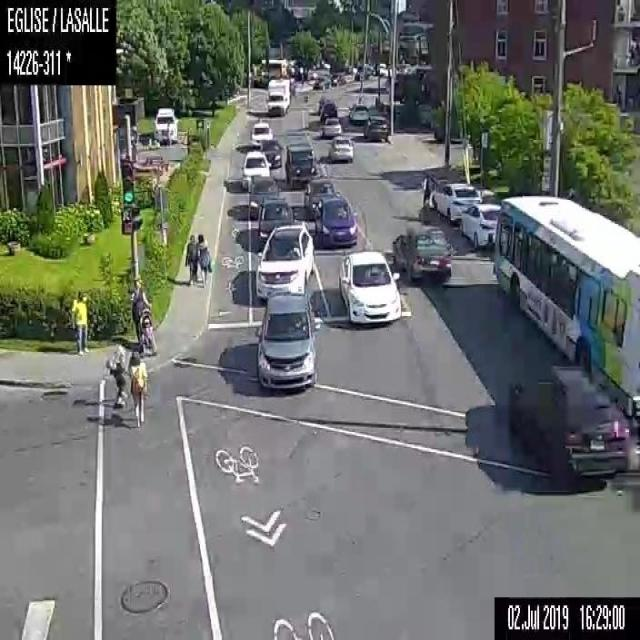bus: (488, 195, 639, 419)
pedestrian: (128, 272, 158, 356), (125, 350, 149, 429), (105, 337, 130, 407), (70, 287, 88, 353), (194, 232, 212, 288), (185, 230, 197, 286), (418, 173, 432, 211), (164, 119, 172, 148)
vehicle: (504, 362, 629, 488), (254, 290, 314, 393), (338, 247, 403, 328), (252, 222, 314, 296), (391, 225, 453, 282), (313, 196, 361, 246), (458, 199, 498, 249), (433, 178, 480, 220), (256, 195, 296, 242), (282, 142, 318, 186), (245, 174, 279, 219), (239, 148, 271, 187), (152, 106, 178, 146), (302, 176, 332, 210), (265, 76, 290, 116), (260, 136, 283, 169), (250, 119, 274, 148), (328, 136, 354, 161), (364, 114, 387, 142), (320, 116, 342, 138), (345, 102, 369, 122), (320, 98, 338, 116), (311, 74, 331, 90), (328, 72, 344, 87), (374, 60, 386, 75)
